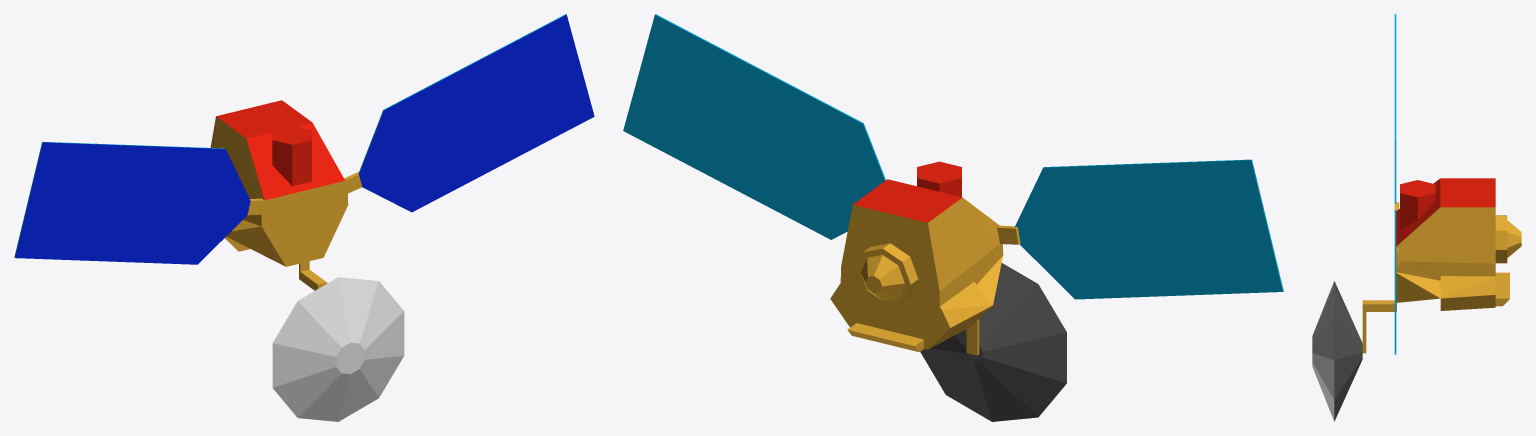
File: MRO_highfidelity.dae
3 renders of one model, left to right at view 1: azimuth 30°, elevation 25°; view 2: azimuth 150°, elevation 25°; view 3: azimuth 270°, elevation 25°, orthographic. The views are drawn at different scales.
Parts seen in each view (by area): view 1: MRO_highfidelity; view 2: MRO_highfidelity; view 3: MRO_highfidelity.
Boxes of the visible parts, x1,y1,x2,y2 form: MRO_highfidelity: [14, 14, 594, 421]; MRO_highfidelity: [623, 14, 1283, 421]; MRO_highfidelity: [1312, 14, 1521, 421].
Size of the model in its own units: 519 by 180 by 273.
